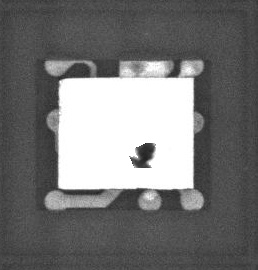DIE_INK: (127, 139, 158, 169)
